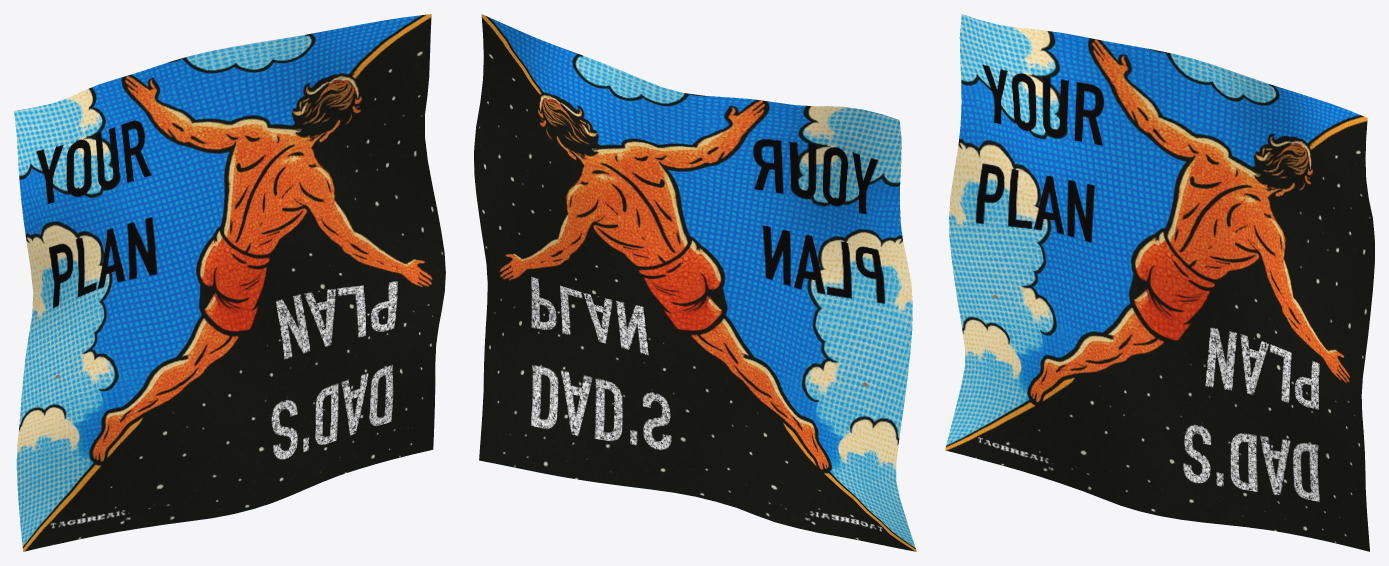
The model's file is detour.glb.
3 renders of one model, left to right at view 1: azimuth 30°, elevation 25°; view 2: azimuth 150°, elevation 25°; view 3: azimuth 330°, elevation 25°, orthographic. The views are drawn at different scales.
Visible parts, largest first — view 1: Plane; view 2: Plane; view 3: Plane.
Boxes of the visible parts, bbox=[...] form: Plane: bbox=[14, 14, 445, 551]; Plane: bbox=[474, 14, 916, 551]; Plane: bbox=[945, 14, 1374, 551].
Bounding box in the file's own units: 2.02 × 2 × 0.3284.
1 material, 1 textured.
